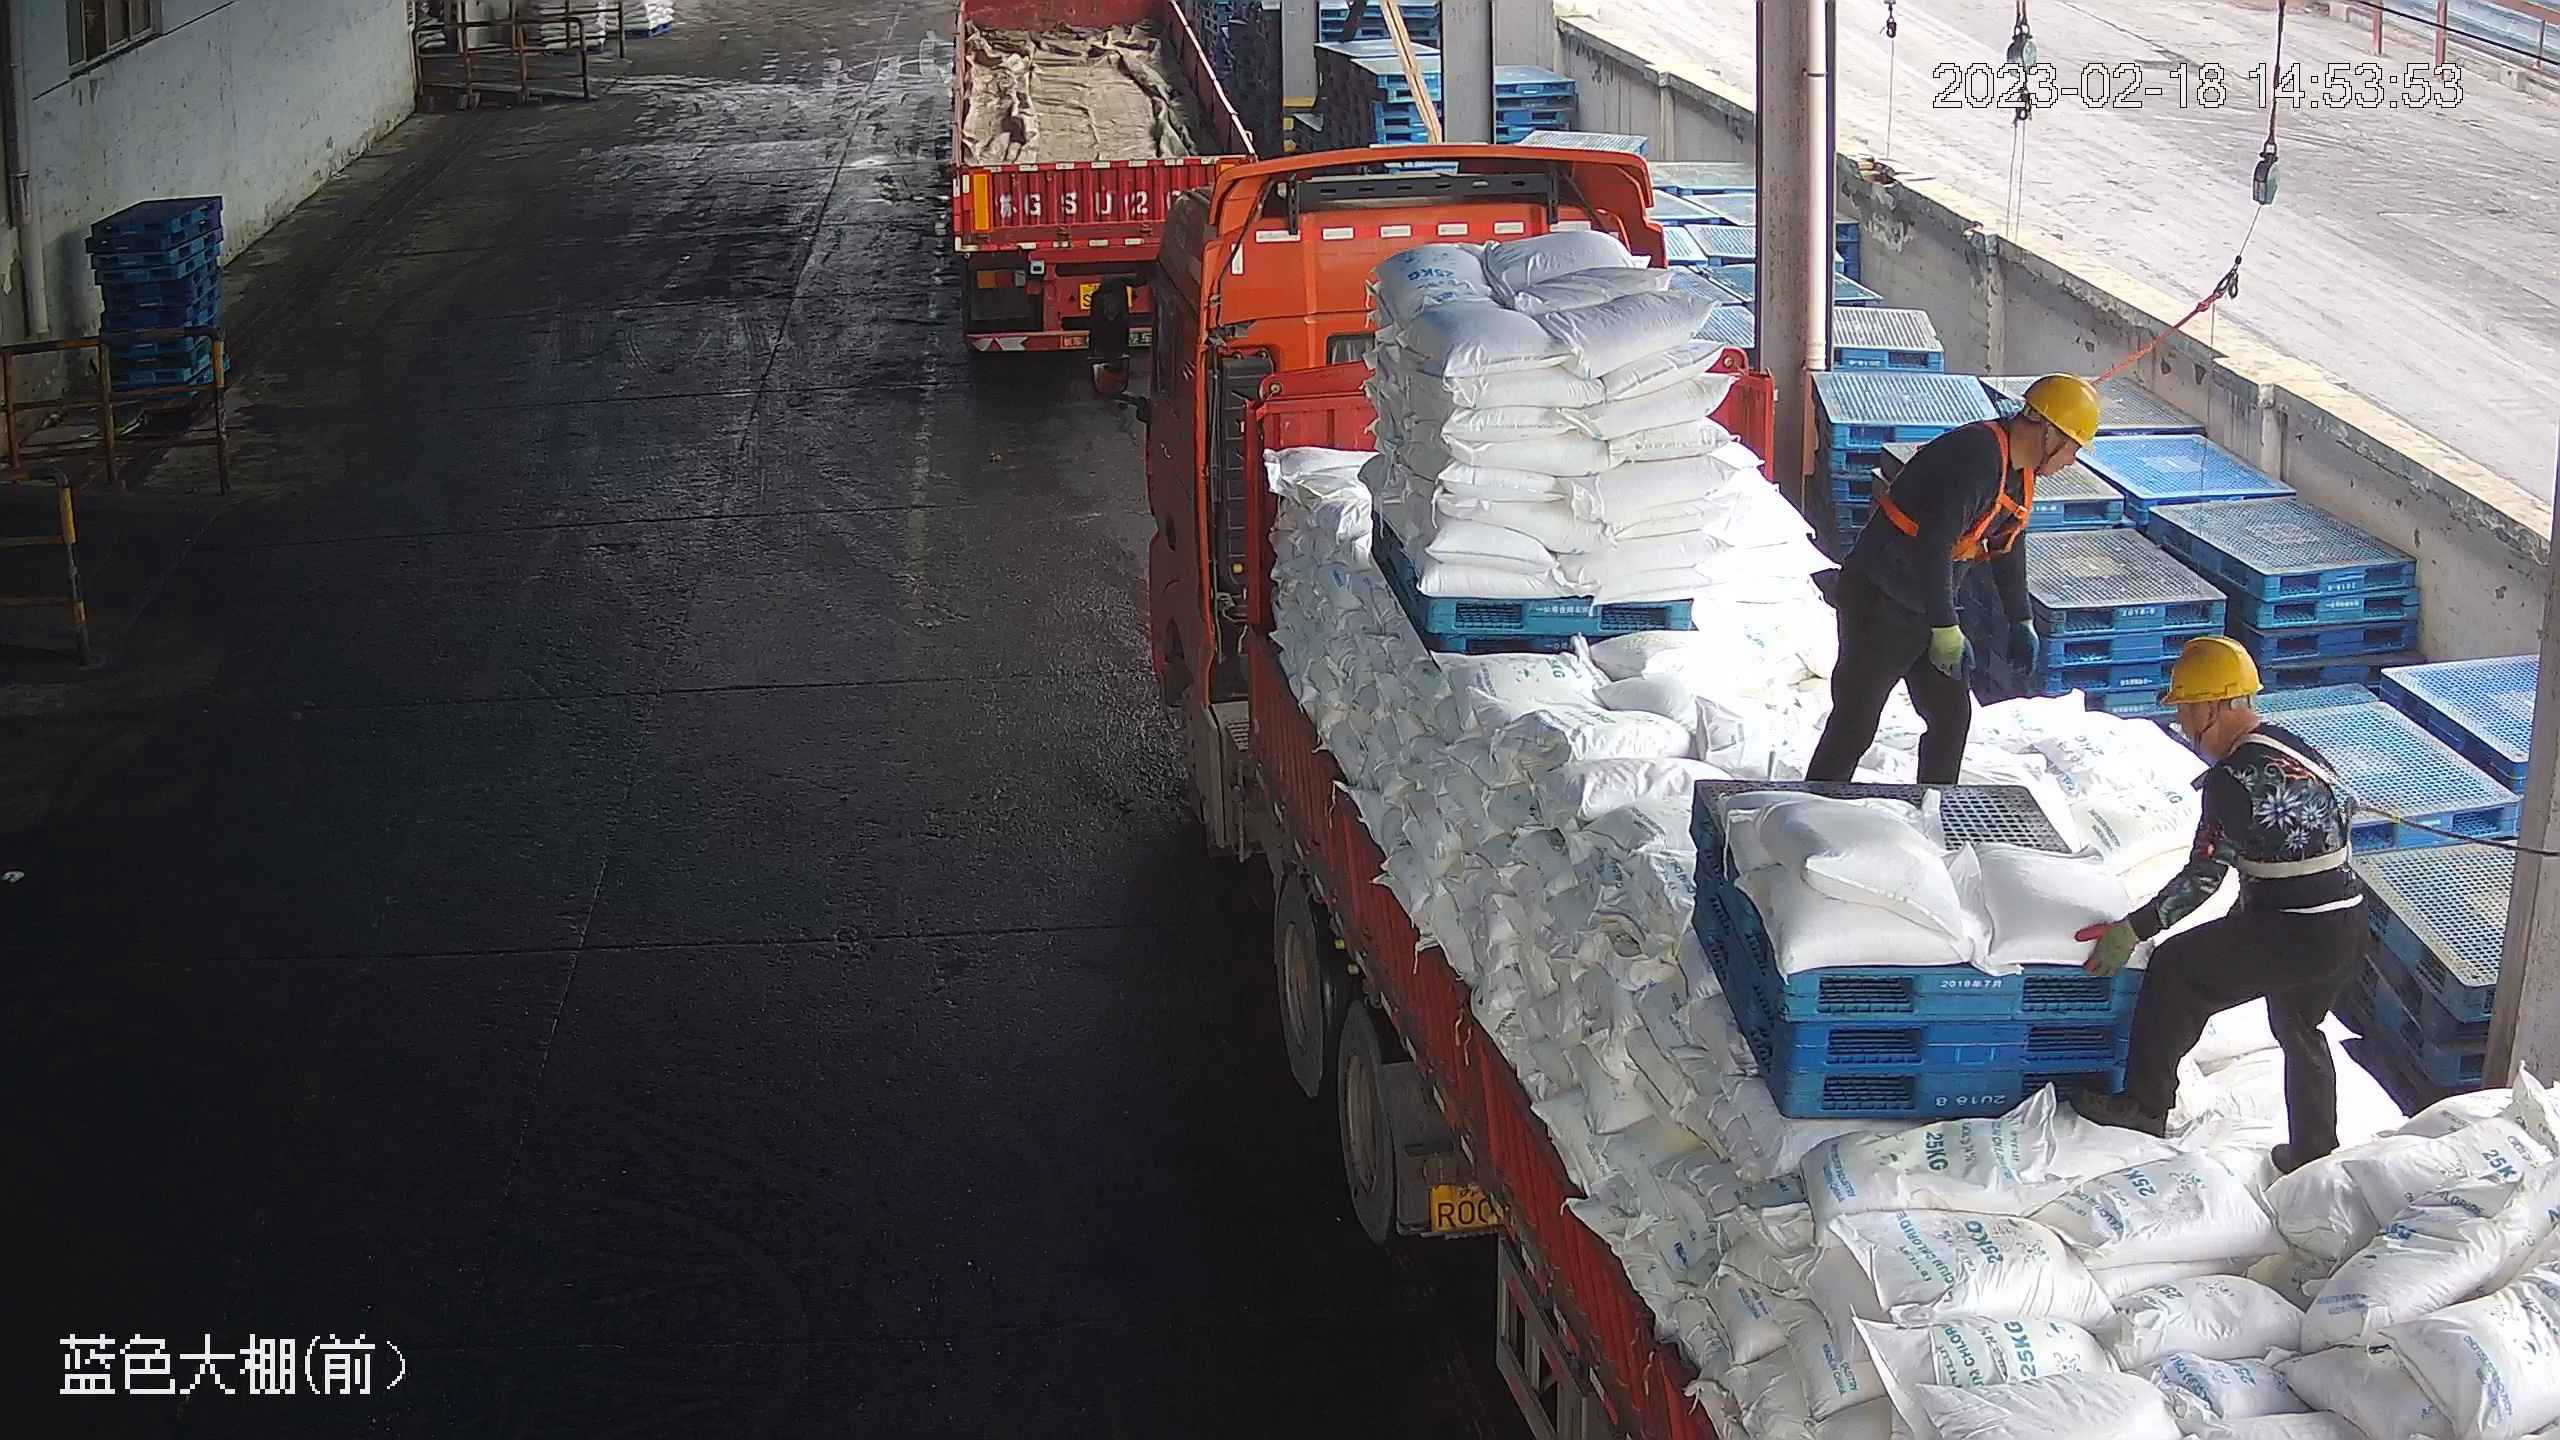belt: (1884, 417, 2042, 563), (2228, 734, 2365, 892)
head: (1919, 368, 2100, 515)
helmet: (2155, 631, 2267, 708), (2021, 369, 2100, 456)
people: (2074, 633, 2364, 1181), (1803, 370, 2102, 795)
truck: (1112, 149, 2554, 1438), (932, 1, 1282, 371)
